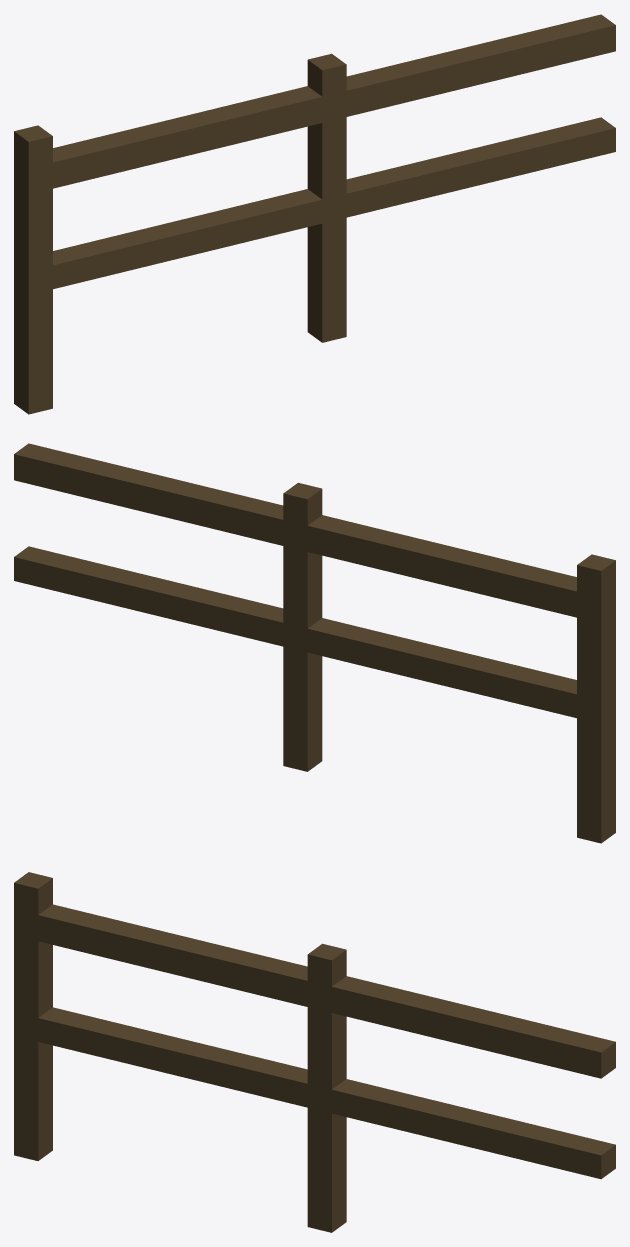
The model's file is Fence.fbx.
3 views of the same model, one above another, from view 1: azimuth 30°, elevation 25°; view 2: azimuth 150°, elevation 25°; view 3: azimuth 330°, elevation 25° (orthographic).
Visible parts, largest first — view 1: Cube; view 2: Cube; view 3: Cube.
Part boxes in pixels (box(x1,y1,x2,y2)): Cube: box(14, 14, 615, 414); Cube: box(14, 443, 615, 843); Cube: box(14, 872, 615, 1232).
Size of the model in its own units: 376 by 167 by 16.32.
